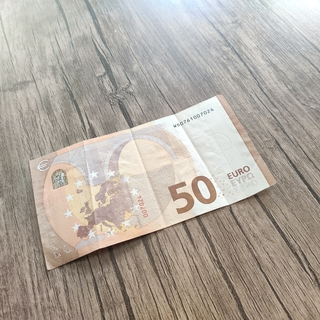50EUROBack: (27, 92, 279, 273)
